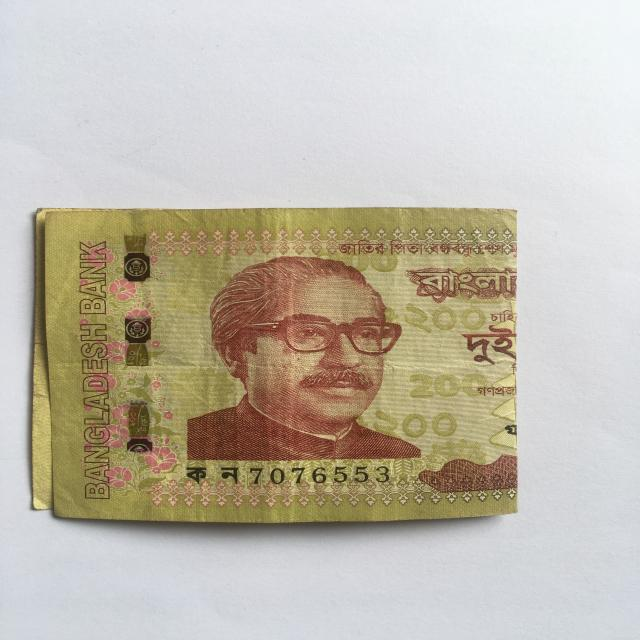Taka: (24, 204, 528, 522)
